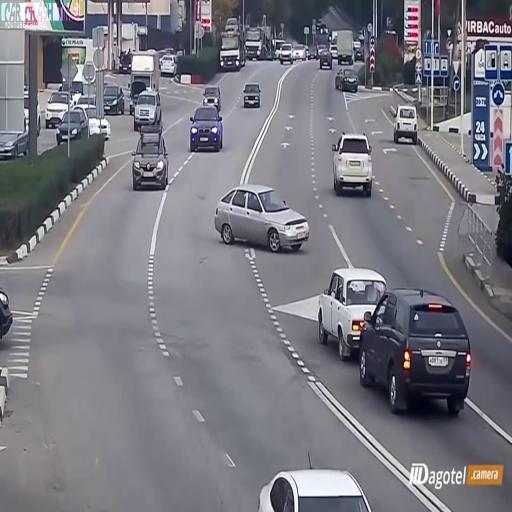小汽车: (370, 278, 471, 425), (214, 181, 312, 251), (256, 459, 380, 512), (319, 264, 377, 353), (332, 126, 376, 198), (130, 126, 167, 193), (191, 101, 223, 152), (390, 98, 421, 144), (0, 274, 18, 348), (54, 109, 85, 151), (216, 27, 245, 70), (101, 75, 124, 117), (133, 91, 162, 122), (334, 24, 358, 61), (45, 84, 66, 126), (244, 21, 266, 61), (333, 66, 360, 96), (158, 48, 180, 78), (242, 78, 262, 108), (278, 42, 296, 65), (316, 47, 333, 70)
